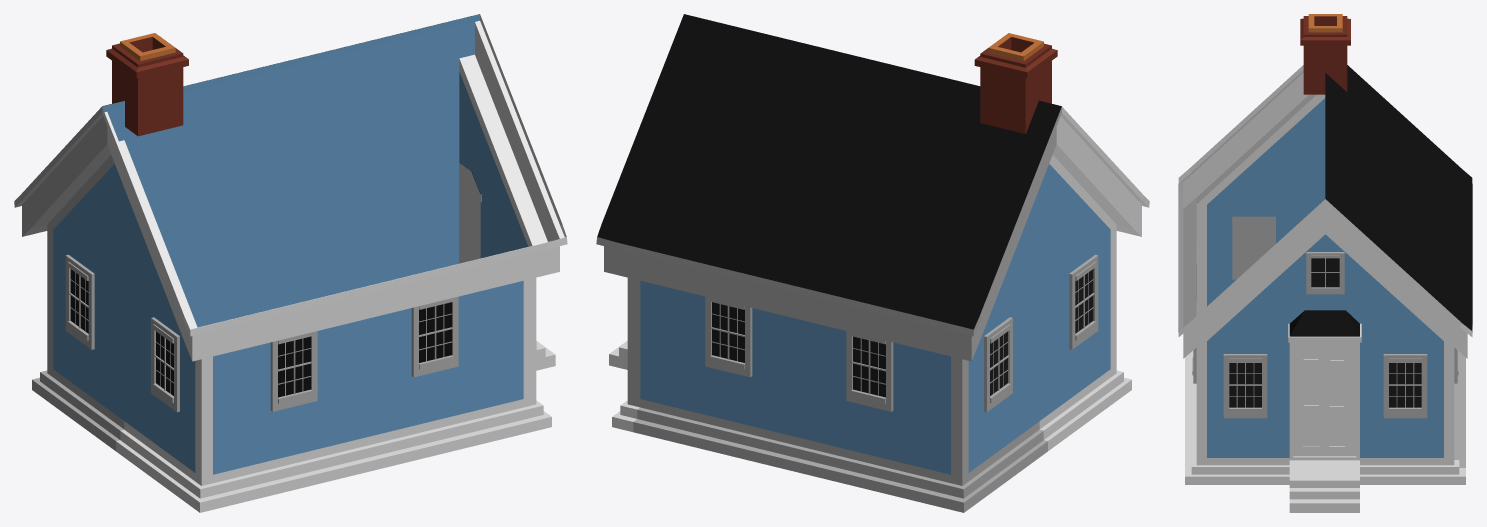
The model's file is fallenstar.obj.
The picture shows the model from 3 angles, left to right: view 1: azimuth 30°, elevation 25°; view 2: azimuth 150°, elevation 25°; view 3: azimuth 270°, elevation 25°; orthographic projection. The views are drawn at different scales.
Visible parts, largest first — view 1: house_house-mesh; view 2: house_house-mesh; view 3: house_house-mesh.
Part boxes in pixels (left/top/right/bottom): house_house-mesh: left=14, top=14, right=567, bottom=512; house_house-mesh: left=596, top=14, right=1149, bottom=512; house_house-mesh: left=1178, top=14, right=1472, bottom=512.
Bounding box in the file's own units: 3.24 × 2.86 × 2.29.
